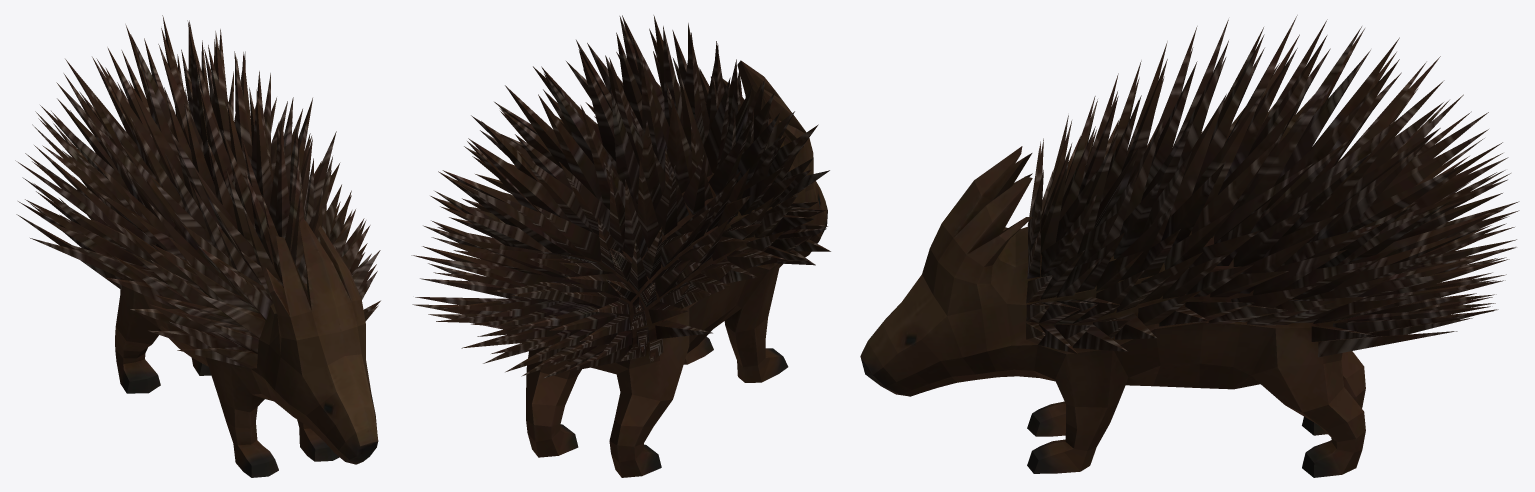
Rendered from 17NdW1sy5PC.glb.
3 renders of one model, left to right at view 1: azimuth 30°, elevation 25°; view 2: azimuth 150°, elevation 25°; view 3: azimuth 270°, elevation 25°, orthographic. The views are drawn at different scales.
Visible parts, largest first — view 1: Porcupine_mesh; view 2: Porcupine_mesh; view 3: Porcupine_mesh.
Part boxes in pixels (x1,y1,x2,y2): Porcupine_mesh: (15,15,380,477); Porcupine_mesh: (411,15,830,477); Porcupine_mesh: (860,15,1519,477).
Size of the model in its own units: 0.7519 by 0.9999 by 1.42.
1 material, 1 textured.
